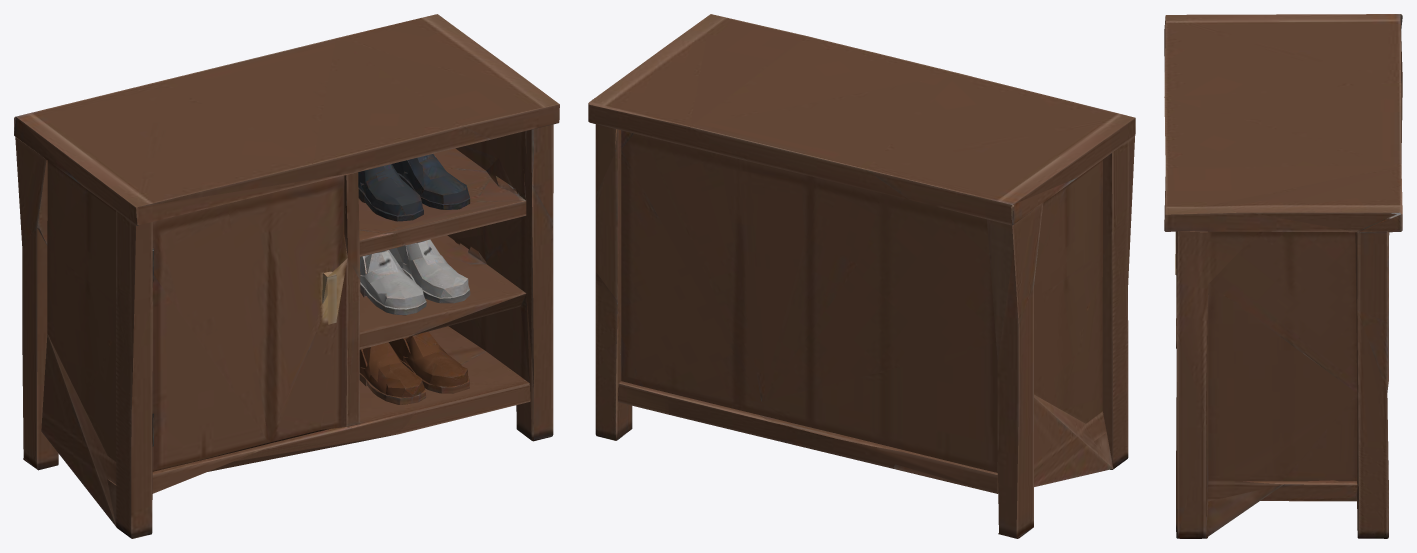
Rendered from shoeCabinet.glb.
3 renders of one model, left to right at view 1: azimuth 30°, elevation 25°; view 2: azimuth 150°, elevation 25°; view 3: azimuth 270°, elevation 25°, orthographic. The views are drawn at different scales.
Size of the model in its own units: 1.9 by 1.45 by 0.9601.
1 material, 1 textured.
